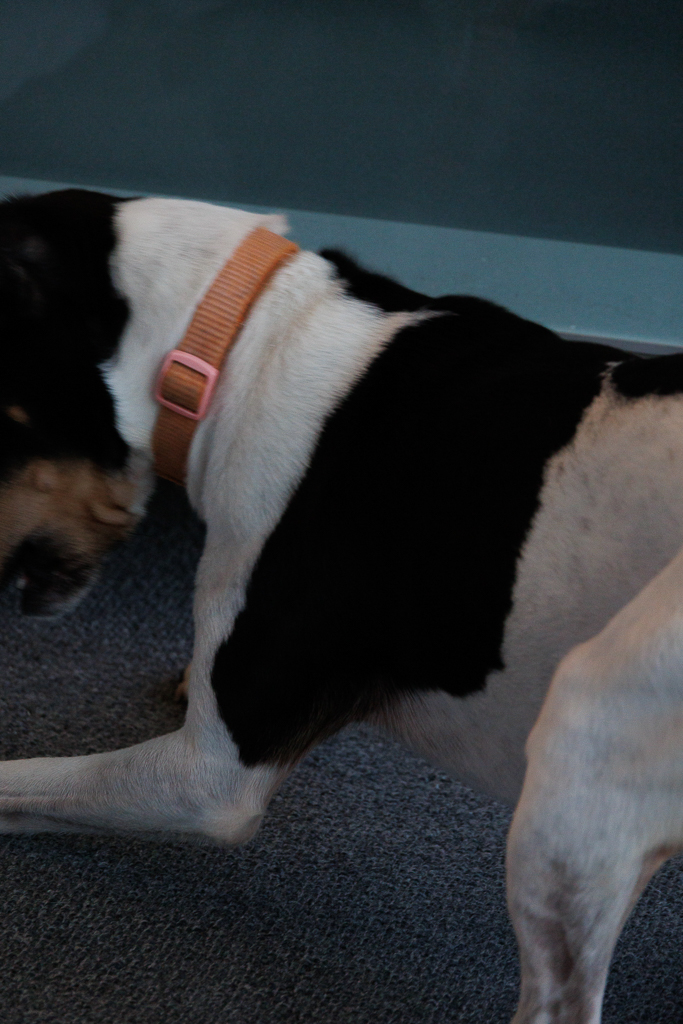Dog: (0, 173, 683, 1024)
